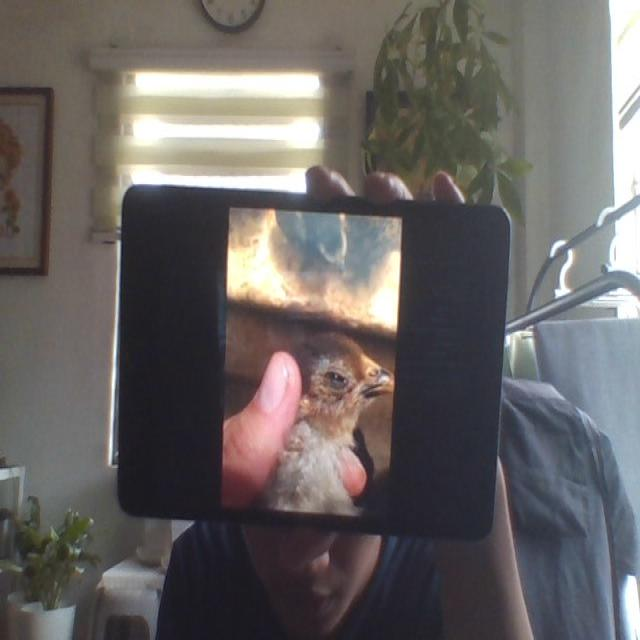Sick: (285, 332, 388, 521)
